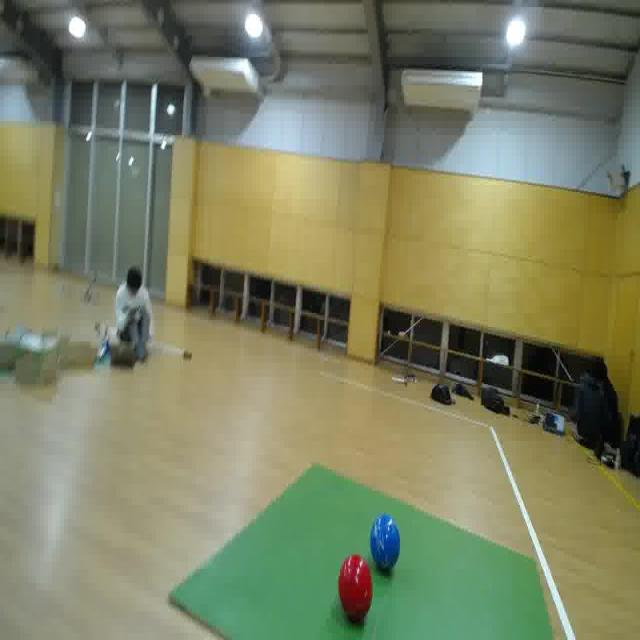blue_ball: (368, 512, 404, 576)
red_ball: (336, 553, 373, 623)
